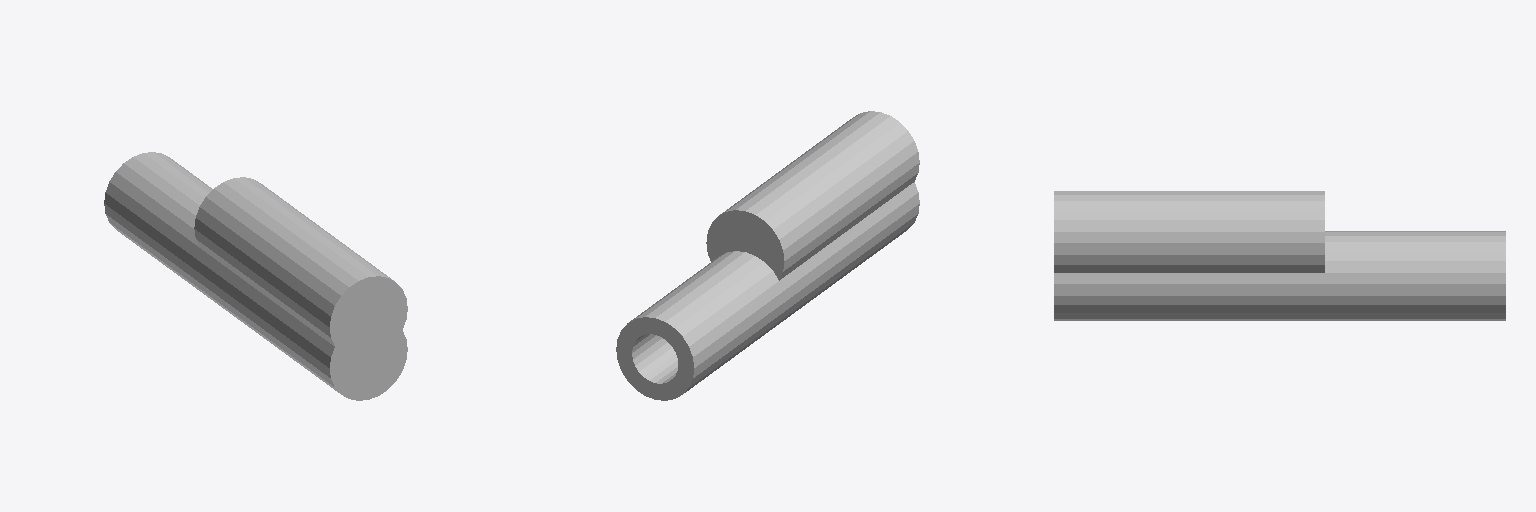
Rendered from barrel3.model.obj.
The picture shows the model from 3 angles: view 1: azimuth 30°, elevation 25°; view 2: azimuth 150°, elevation 25°; view 3: azimuth 270°, elevation 25°; orthographic projection.
Size of the model in its own units: 0.2 by 0.3 by 1.